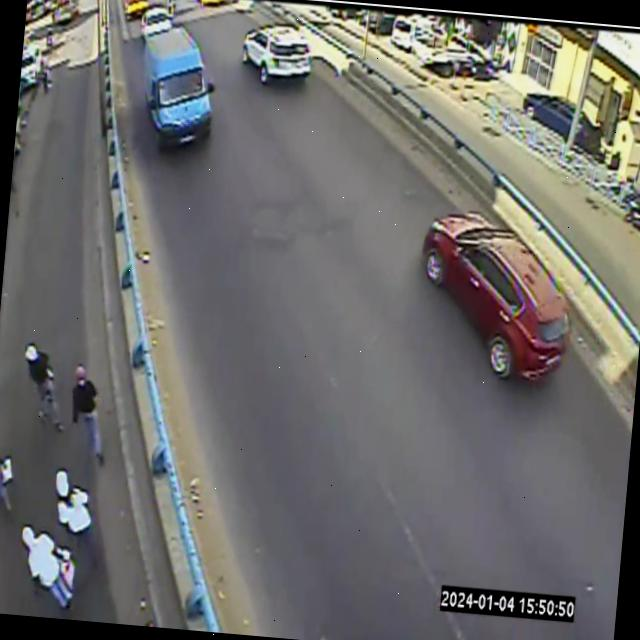car: (421, 212, 567, 378), (142, 26, 213, 147), (241, 25, 310, 83), (140, 6, 171, 39), (124, 0, 149, 19)
